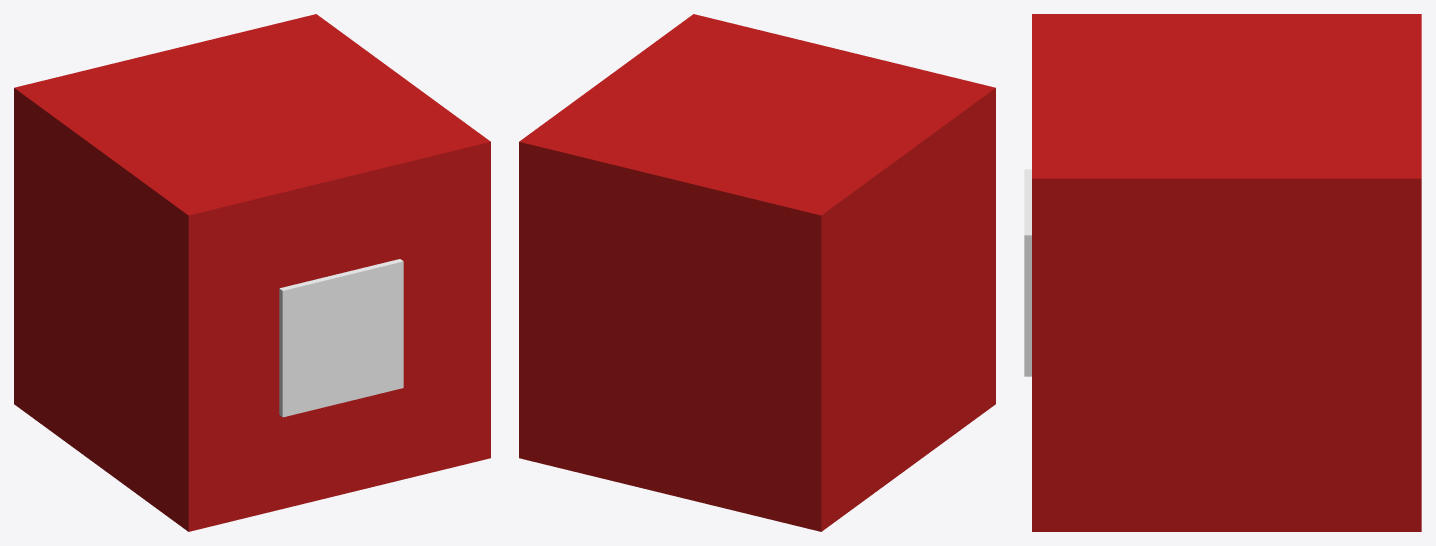
File: crate.obj
The picture shows the model from 3 angles, left to right: view 1: azimuth 30°, elevation 25°; view 2: azimuth 150°, elevation 25°; view 3: azimuth 270°, elevation 25°; orthographic projection. The views are drawn at different scales.
Visible parts, largest first — view 1: Crate; view 2: Crate; view 3: Crate.
Part boxes in pixels (x1,y1,x2,y2): Crate: (14,14,490,531); Crate: (519,14,995,531); Crate: (1024,14,1421,531).
Bounding box in the file's own units: 1 × 1 × 1.02.
